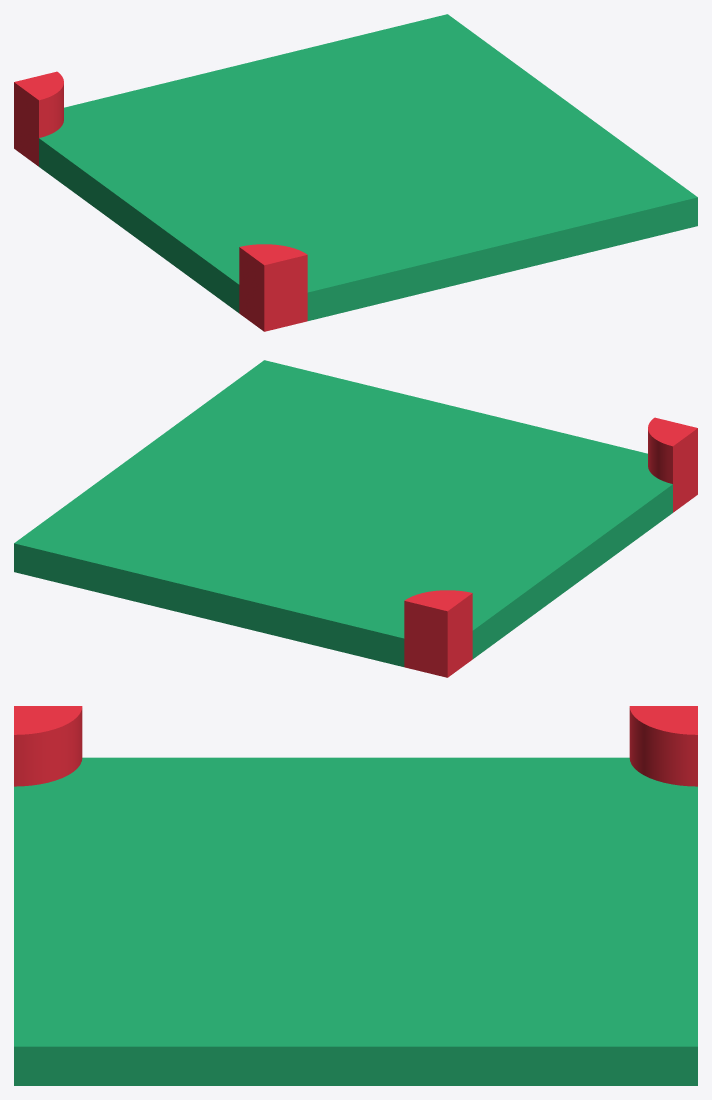
File: wallsToOpen.obj
The picture shows the model from 3 angles, top to bottom: view 1: azimuth 30°, elevation 25°; view 2: azimuth 150°, elevation 25°; view 3: azimuth 270°, elevation 25°; orthographic projection. The views are drawn at different scales.
Parts seen in each view (by area): view 1: wallsToOpen; view 2: wallsToOpen; view 3: wallsToOpen.
Boxes of the visible parts, <box> form: wallsToOpen: <box>14,14,697,331</box>; wallsToOpen: <box>14,360,697,677</box>; wallsToOpen: <box>14,706,697,1085</box>.
Bounding box in the file's own units: 0.9999 × 0.1467 × 0.9999.
